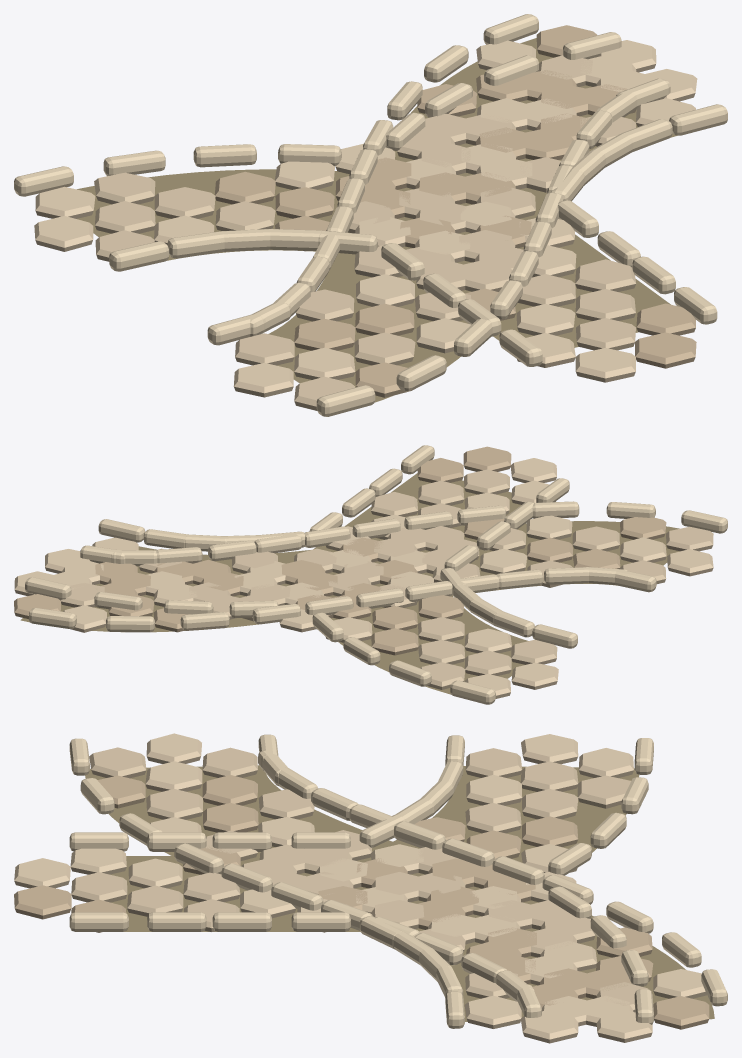
File: path-kit.glb
3 renders of one model, top to bottom at view 1: azimuth 30°, elevation 25°; view 2: azimuth 150°, elevation 25°; view 3: azimuth 270°, elevation 25°, orthographic. The views are drawn at different scales.
Visible parts, largest first — view 1: PATH_FORK__City_V2_Cream, PATH_FORK__City_V2_Paver_1, PATH_FORK__City_V2_Paver_2, PATH_CURVE__City_V2_Cream, PATH_CURVE__City_V2_Paver_1, PATH_CURVE__City_V2_Paver_0, PATH_CURVE__City_V2_Paver_2, PATH_FORK__City_V2_Paver_0, PATH_FORK__City_V2_Gravel, PATH_CURVE__City_V2_Gravel; view 2: PATH_CURVE__City_V2_Cream, PATH_FORK__City_V2_Cream, PATH_FORK__City_V2_Paver_1, PATH_FORK__City_V2_Paver_2, PATH_FORK__City_V2_Paver_0, PATH_CURVE__City_V2_Paver_1, PATH_CURVE__City_V2_Paver_0, PATH_CURVE__City_V2_Paver_2, PATH_FORK__City_V2_Gravel, PATH_CURVE__City_V2_Gravel; view 3: PATH_FORK__City_V2_Cream, PATH_FORK__City_V2_Paver_1, PATH_CURVE__City_V2_Cream, PATH_FORK__City_V2_Paver_2, PATH_CURVE__City_V2_Paver_0, PATH_CURVE__City_V2_Paver_1, PATH_CURVE__City_V2_Paver_2, PATH_FORK__City_V2_Paver_0, PATH_FORK__City_V2_Gravel, PATH_CURVE__City_V2_Gravel.
Boxes of the visible parts, left/top/right/bottom form: PATH_FORK__City_V2_Cream: left=14, top=32, right=727, bottom=366; PATH_FORK__City_V2_Paver_1: left=94, top=115, right=636, bottom=350; PATH_FORK__City_V2_Paver_2: left=34, top=55, right=697, bottom=382; PATH_CURVE__City_V2_Cream: left=207, top=14, right=670, bottom=416; PATH_CURVE__City_V2_Paver_1: left=235, top=55, right=592, bottom=410; PATH_CURVE__City_V2_Paver_0: left=294, top=25, right=596, bottom=397; PATH_CURVE__City_V2_Paver_2: left=233, top=40, right=656, bottom=397; PATH_FORK__City_V2_Paver_0: left=214, top=70, right=696, bottom=368; PATH_FORK__City_V2_Gravel: left=77, top=86, right=677, bottom=347; PATH_CURVE__City_V2_Gravel: left=268, top=38, right=591, bottom=402; PATH_CURVE__City_V2_Cream: left=29, top=501, right=727, bottom=632; PATH_FORK__City_V2_Cream: left=25, top=445, right=577, bottom=704; PATH_FORK__City_V2_Paver_1: left=139, top=469, right=557, bottom=689; PATH_FORK__City_V2_Paver_2: left=45, top=458, right=558, bottom=698; PATH_FORK__City_V2_Paver_0: left=95, top=446, right=511, bottom=655; PATH_CURVE__City_V2_Paver_1: left=60, top=526, right=713, bottom=619; PATH_CURVE__City_V2_Paver_0: left=14, top=517, right=666, bottom=632; PATH_CURVE__City_V2_Paver_2: left=14, top=515, right=713, bottom=632; PATH_FORK__City_V2_Gravel: left=137, top=473, right=528, bottom=694; PATH_CURVE__City_V2_Gravel: left=20, top=521, right=679, bottom=632; PATH_FORK__City_V2_Cream: left=69, top=735, right=653, bottom=1028; PATH_FORK__City_V2_Paver_1: left=71, top=748, right=630, bottom=998; PATH_CURVE__City_V2_Cream: left=69, top=734, right=727, bottom=1017; PATH_FORK__City_V2_Paver_2: left=14, top=734, right=633, bottom=1043; PATH_CURVE__City_V2_Paver_0: left=97, top=775, right=709, bottom=1029; PATH_CURVE__City_V2_Paver_1: left=89, top=747, right=651, bottom=1012; PATH_CURVE__City_V2_Paver_2: left=145, top=733, right=706, bottom=1042; PATH_FORK__City_V2_Paver_0: left=14, top=816, right=631, bottom=1007; PATH_FORK__City_V2_Gravel: left=110, top=766, right=639, bottom=1021; PATH_CURVE__City_V2_Gravel: left=85, top=765, right=714, bottom=1019.
Size of the model in its own units: 9.58 by 0.295 by 9.51.
